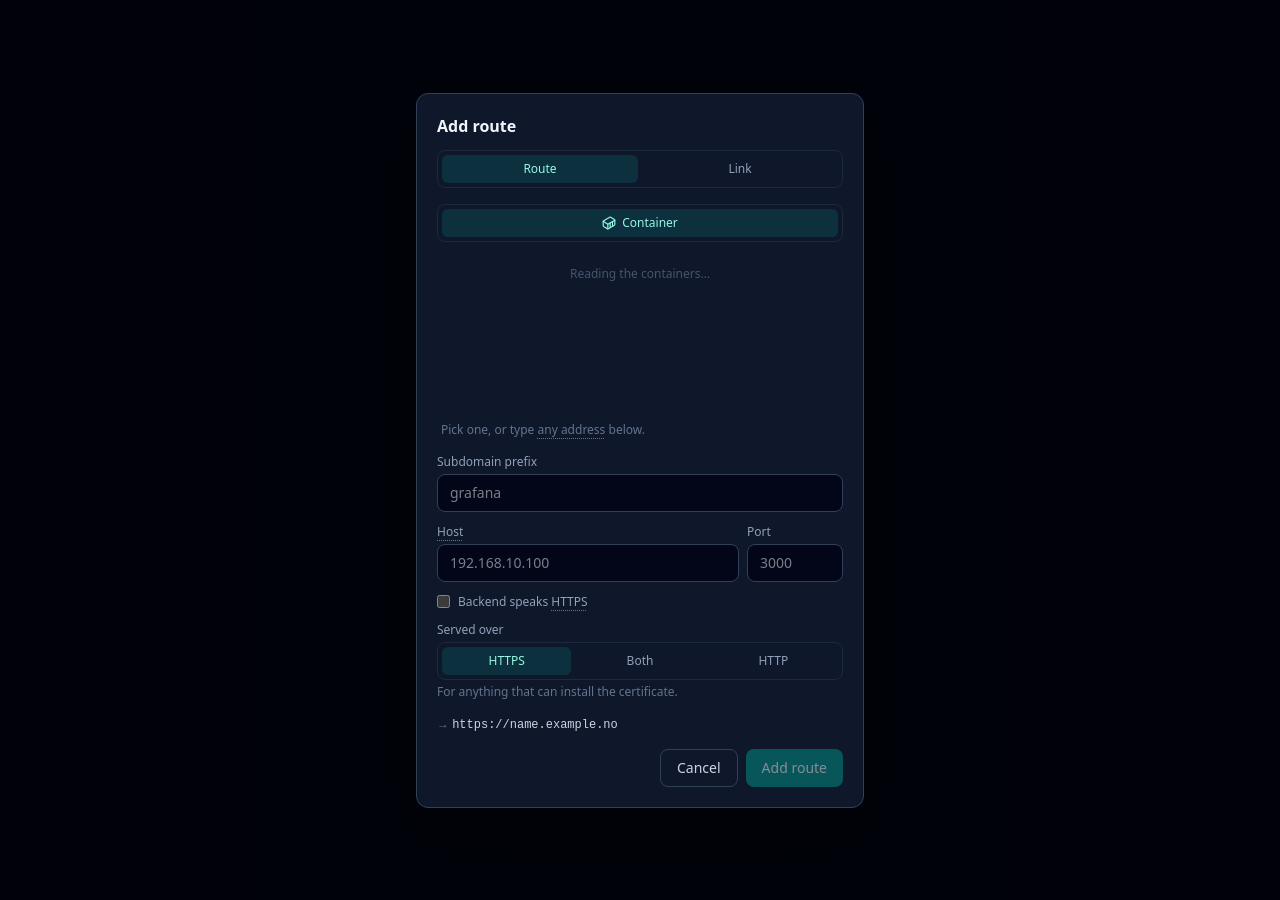
Test: the port takes digits only, and says when it's out of range
Type "80a80" into the field labelled "Port" at (795, 562), box top-left (747, 544), bottom-right (843, 582)
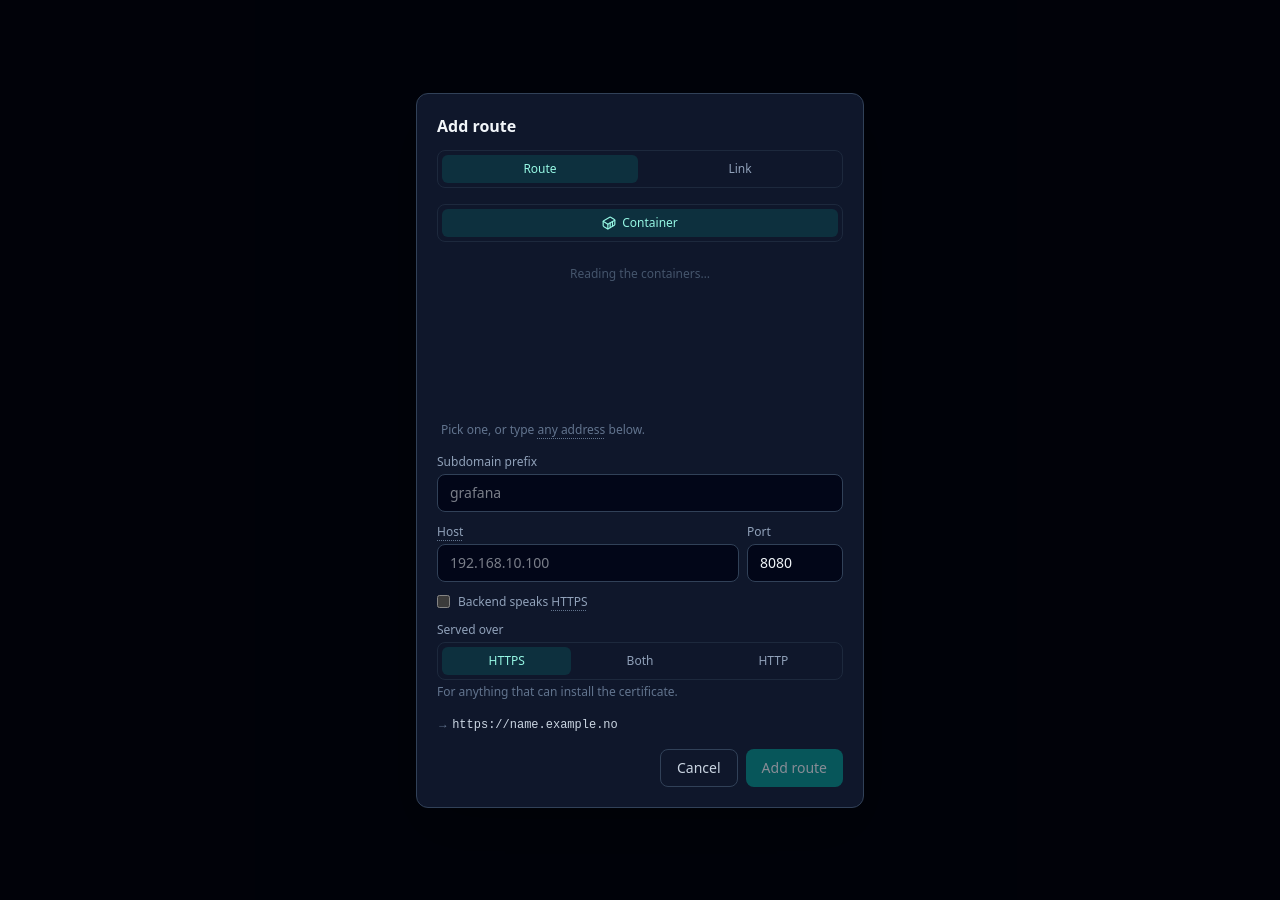
Check: the field labelled "Port" holds "8080"
Replace the text in the field labelled "Port" with "99999" at (795, 562), box top-left (747, 544), bottom-right (843, 582)
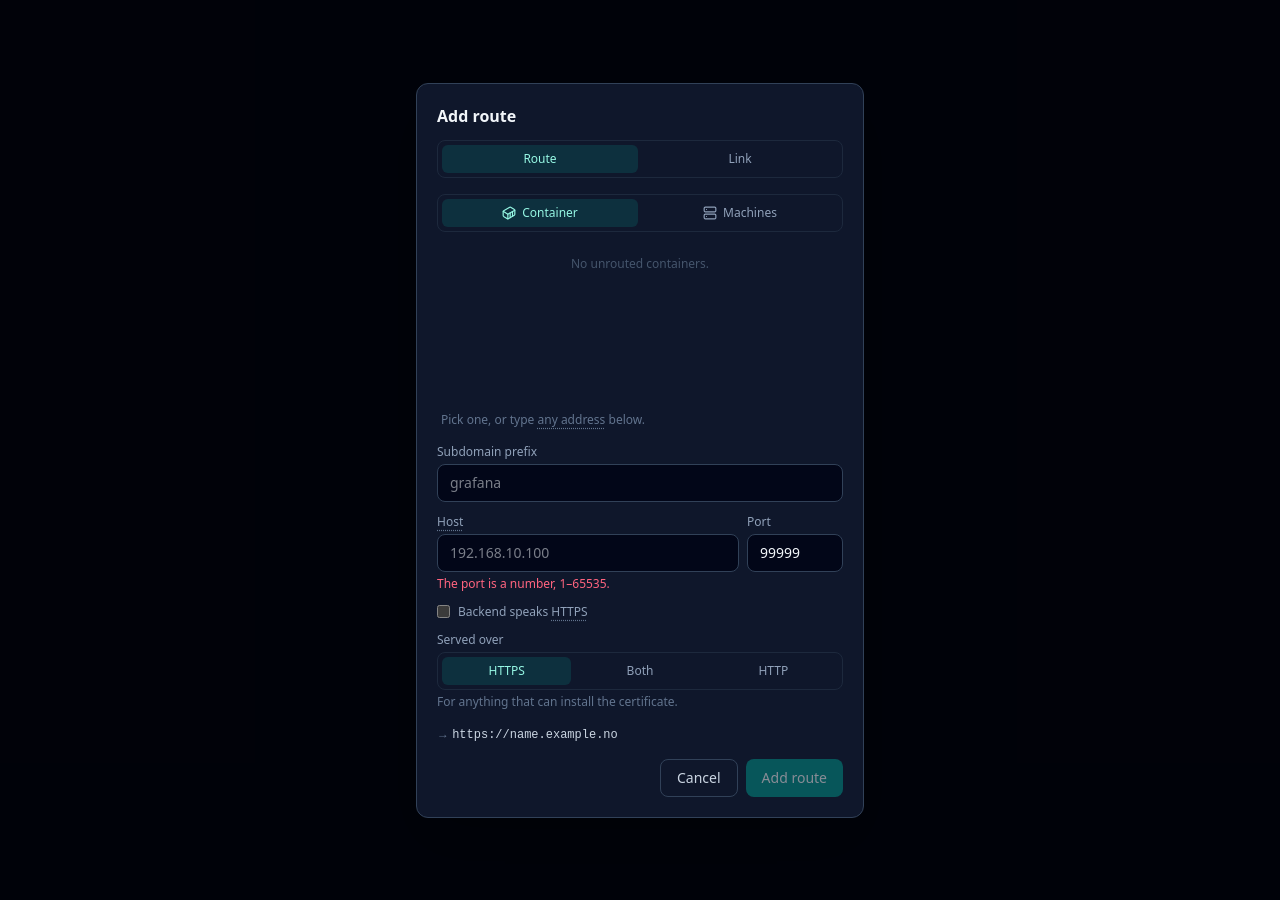
Check: the text "The port is a number, 1–65535." is shown, box top-left (437, 574), bottom-right (610, 592)
